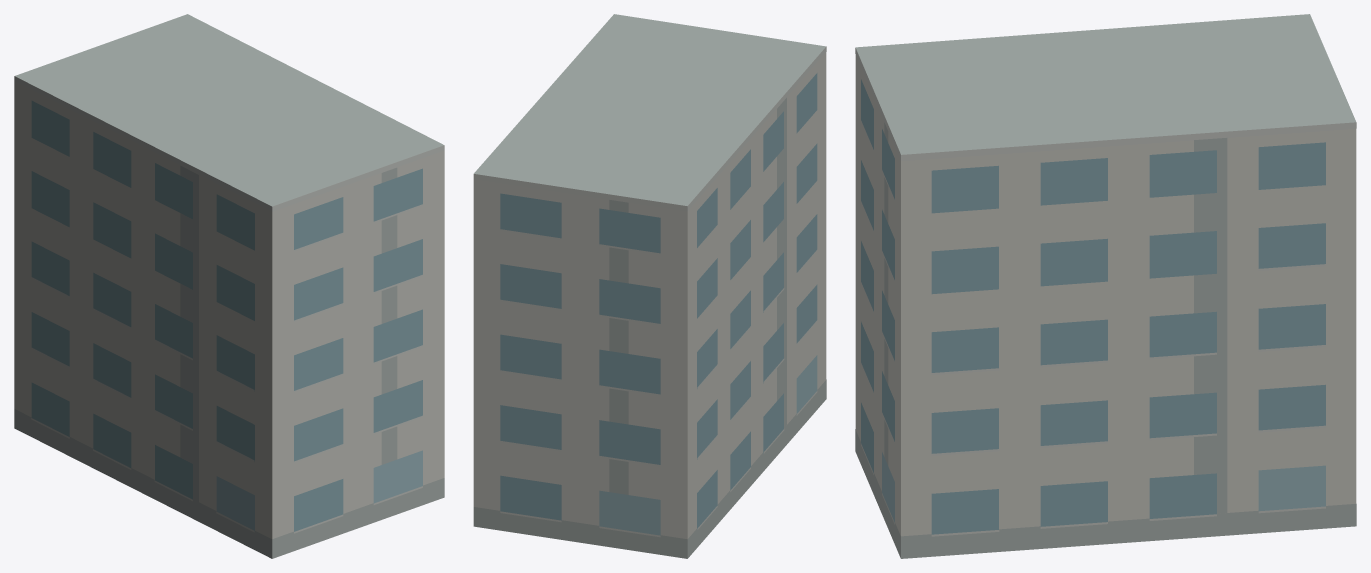
The model's file is survey-upis-33032602.glb.
3 views of the same model, side by side, from view 1: azimuth 30°, elevation 25°; view 2: azimuth 150°, elevation 25°; view 3: azimuth 270°, elevation 25° (orthographic). The views are drawn at different scales.
Parts seen in each view (by area): view 1: survey-upis-33032602.tmp; view 2: survey-upis-33032602.tmp; view 3: survey-upis-33032602.tmp.
Part boxes in pixels (x1,y1,x2,y2): survey-upis-33032602.tmp: (14, 14, 444, 558); survey-upis-33032602.tmp: (473, 14, 826, 558); survey-upis-33032602.tmp: (855, 14, 1356, 558).
Size of the model in its own units: 11.82 by 15.8 by 17.77.
